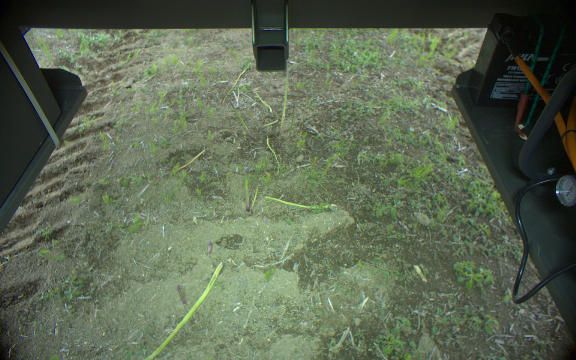aspa: (273, 63, 295, 128), (220, 62, 252, 101), (227, 101, 253, 146), (241, 163, 253, 212)
